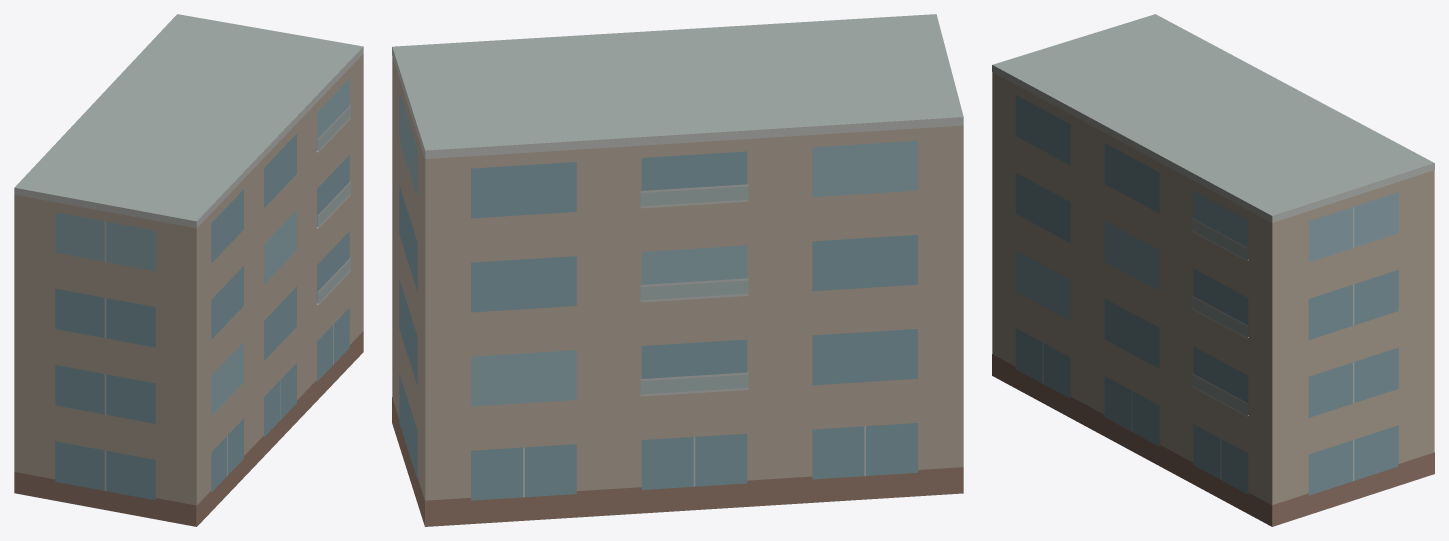
Rendered from survey-upis-33041813.glb.
3 views of the same model, side by side, from view 1: azimuth 30°, elevation 25°; view 2: azimuth 150°, elevation 25°; view 3: azimuth 270°, elevation 25° (orthographic). The views are drawn at different scales.
Visible parts, largest first — view 1: survey-upis-33041813.tmp; view 2: survey-upis-33041813.tmp; view 3: survey-upis-33041813.tmp.
Part boxes in pixels (x1,y1,x2,y2): survey-upis-33041813.tmp: (14,14,363,526); survey-upis-33041813.tmp: (392,14,963,526); survey-upis-33041813.tmp: (992,14,1434,526).
Bounding box in the file's own units: 14.98 × 10.75 × 13.88.
